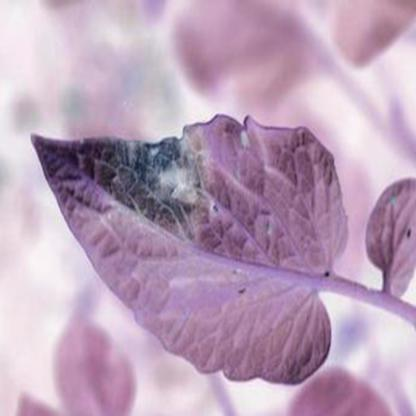potato leaf late blight: (30, 109, 353, 395)
